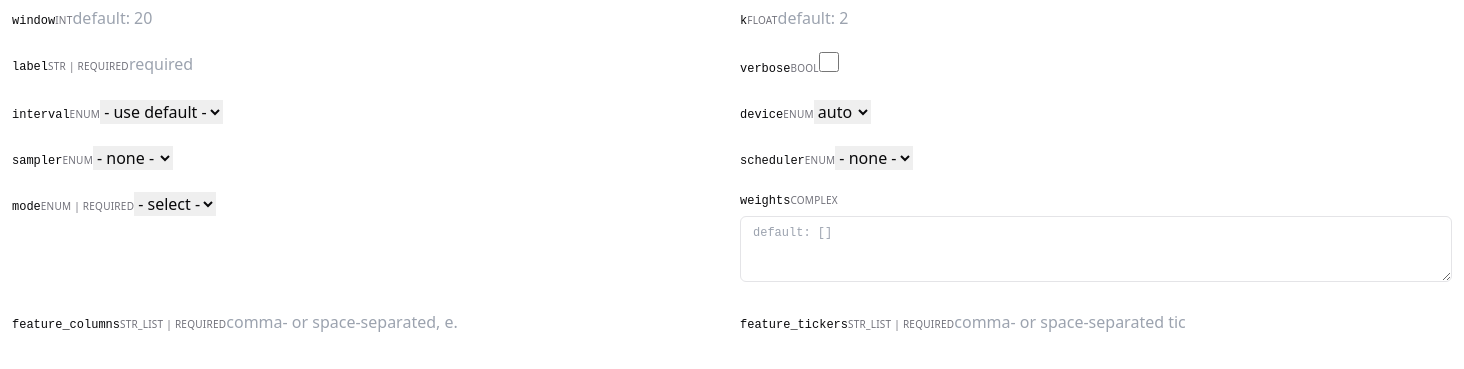
Test: StrategyParamsEditor › JSON cell preserves partial text and only commits valid JSON to parent
The image size is (1464, 369).
Type "[\"foo\"," into the text box at (1096, 249), box 740,216 -> 1452,282
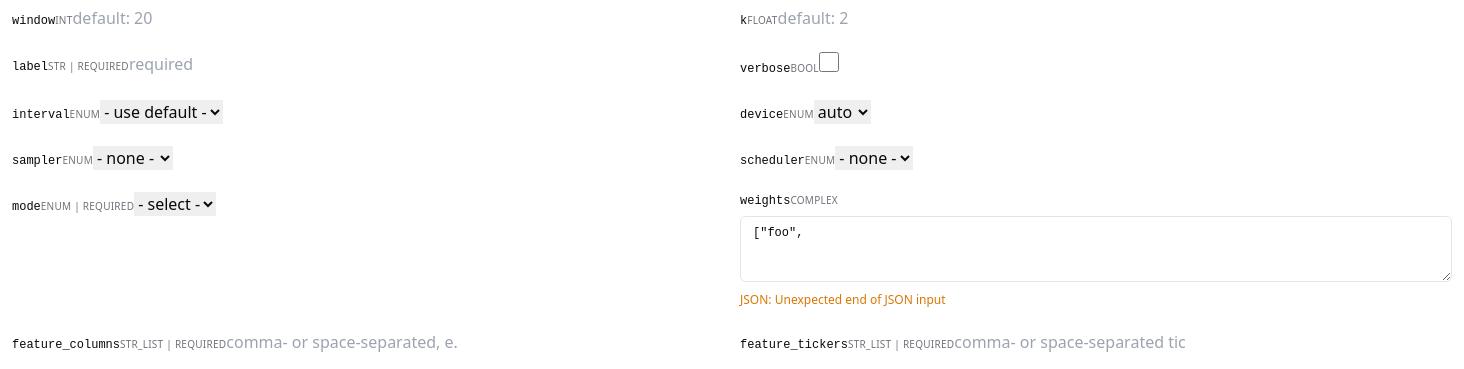
Expected: the text "JSON:" is shown, 740,291 -> 775,308
Replace the text in the text box with "[\"foo\",\"bar\"]" at (1096, 249), box 740,216 -> 1452,282
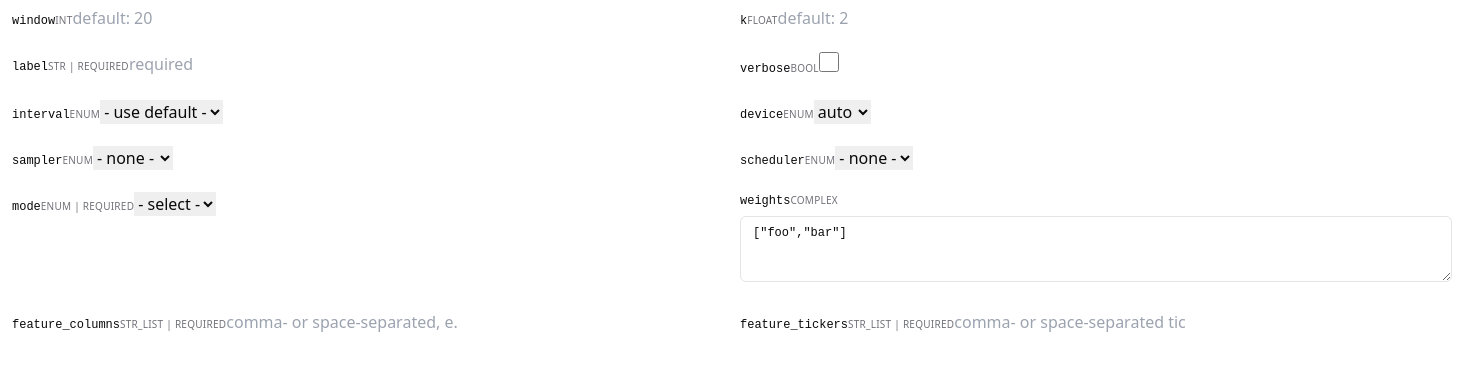
Expected: the text "JSON:" is gone
